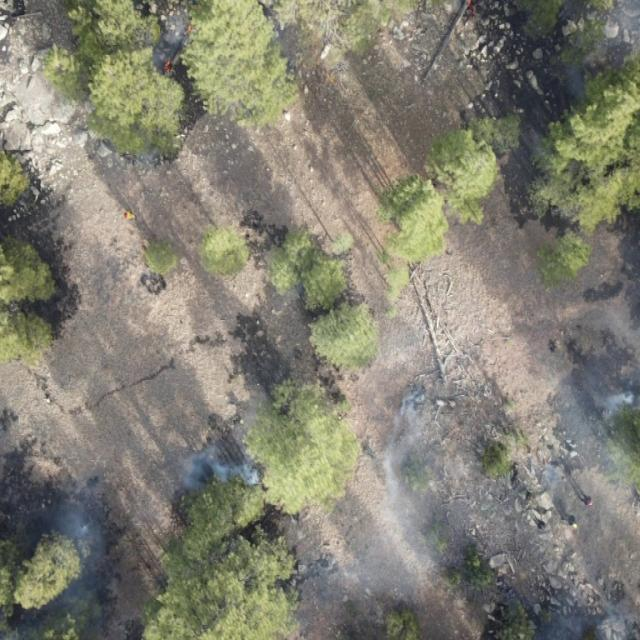fire: (161, 54, 178, 80), (461, 0, 477, 19), (183, 17, 196, 37)
smoke: (324, 390, 588, 612), (548, 332, 640, 498), (0, 480, 96, 622), (560, 0, 640, 139), (164, 423, 278, 516), (138, 3, 203, 83), (116, 146, 164, 184)
